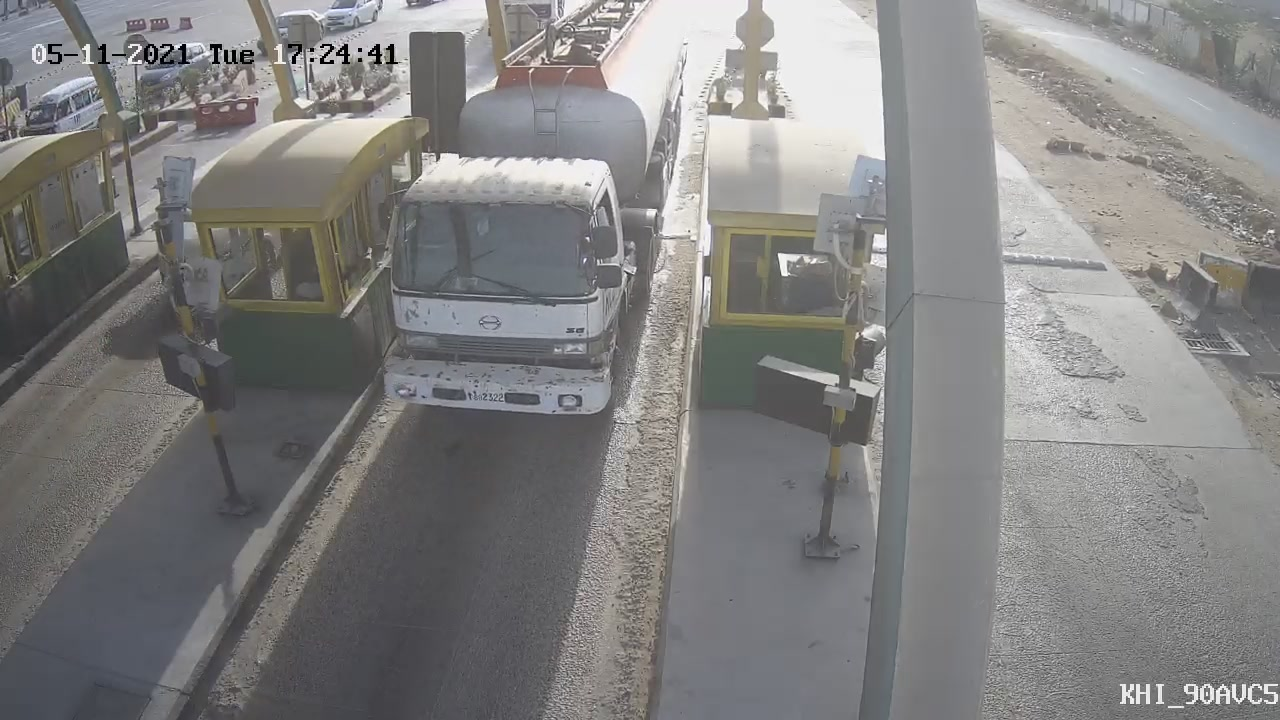F6: (337, 1, 704, 448)
